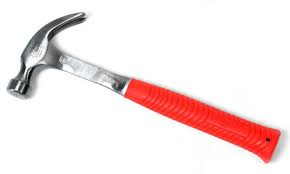martillu: (6, 10, 281, 167)
